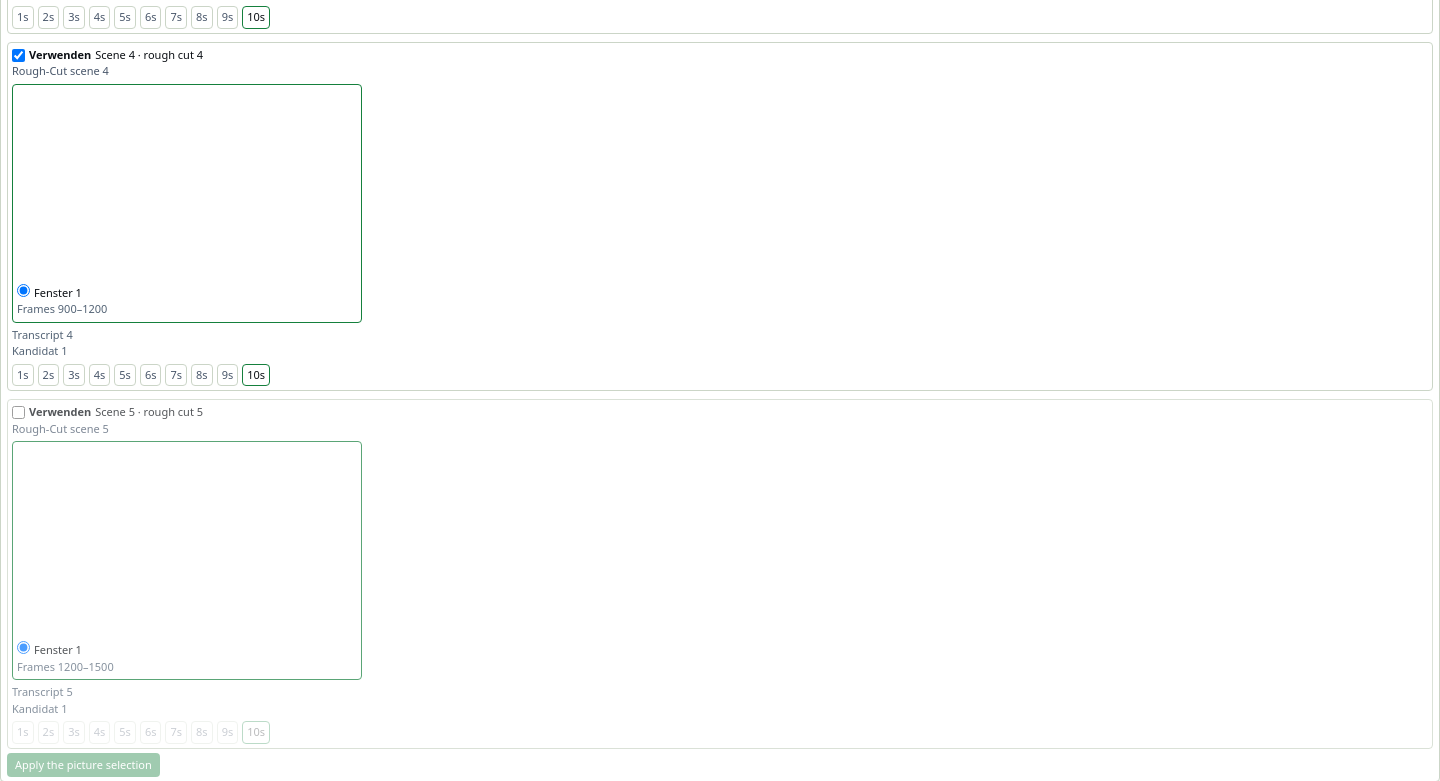
it: VisualSelectionCard › blocks undercoverage and previews the frame-exact final trim
This screenshot has width=1440, height=781.
(page scrolled)
Expected: the button "Apply the picture selection" is disabled, 7,753 -> 160,777
What coordinates should you click on to do the following:
click the checkbox with test id "visual-scene-use-4"
I would click on:
 (18, 413)
Its box is 12,406 -> 25,419.
(page scrolled)
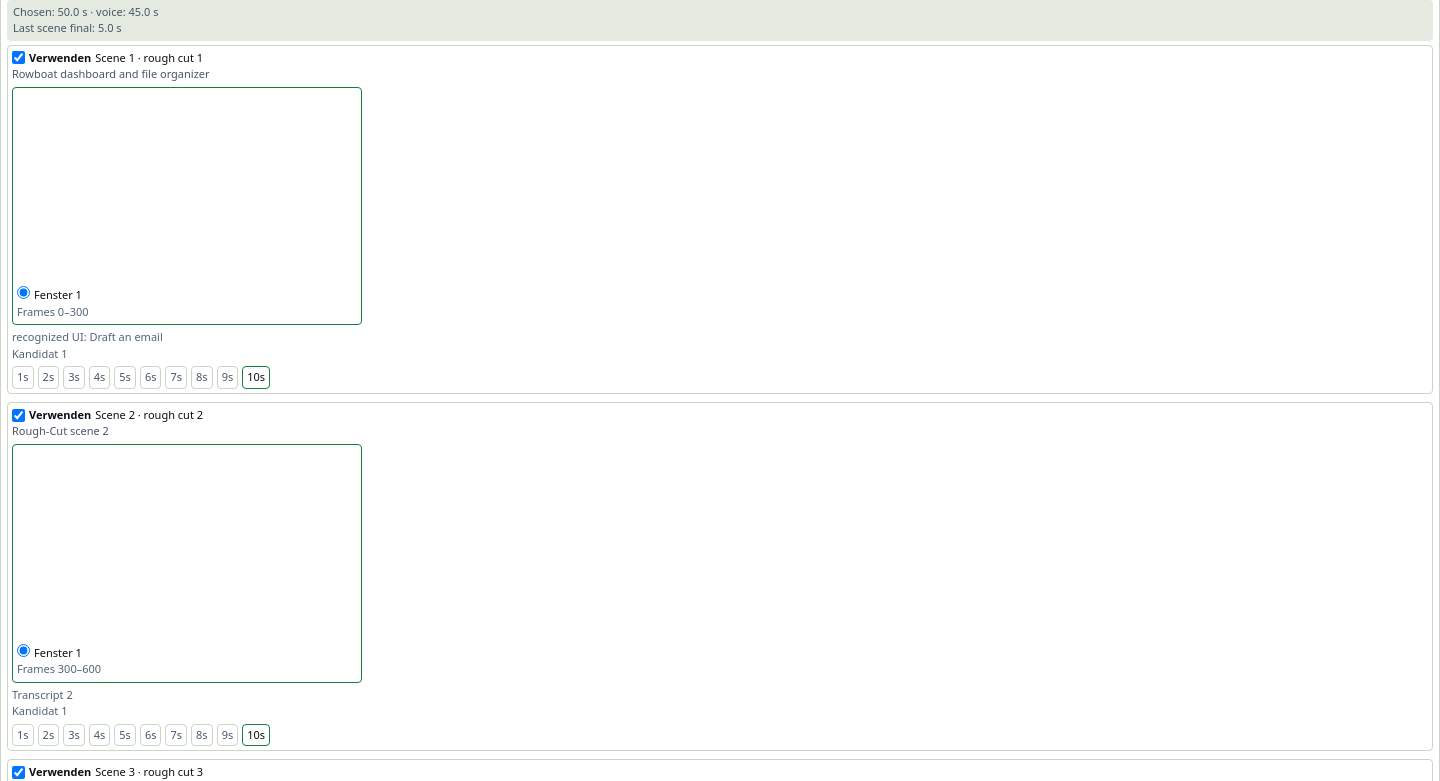
Result: the text "Last scene final: 5.0 s" is shown at 13,20 -> 122,35
